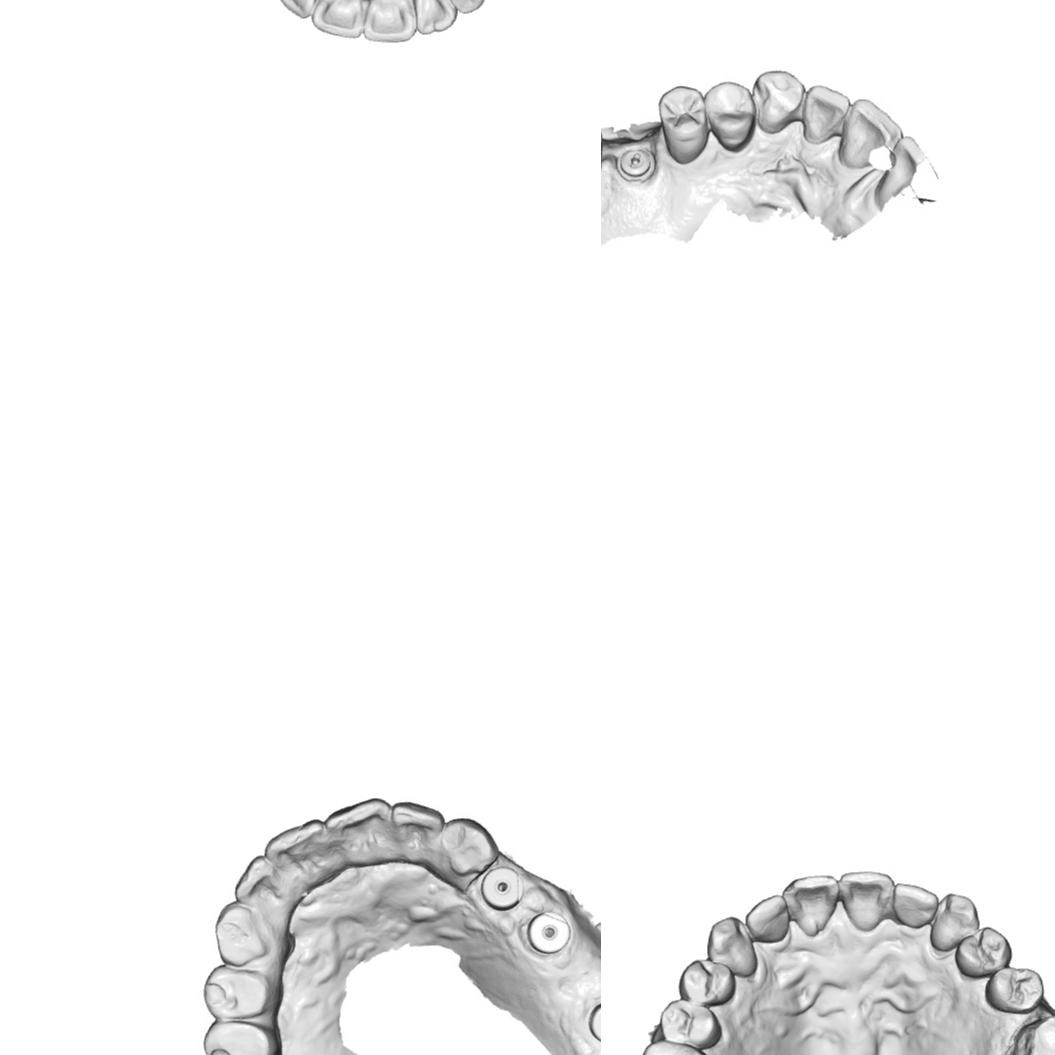canine: (749, 68, 807, 135), (438, 813, 498, 874), (210, 903, 268, 965), (928, 892, 980, 954), (706, 916, 758, 977), (441, 0, 492, 14)
crown: (998, 1012, 1055, 1055)
implant: (530, 909, 579, 956), (483, 864, 523, 911), (588, 994, 601, 1045)
implant_minus: (617, 145, 653, 181)
incisor: (835, 97, 904, 171), (327, 799, 395, 859), (782, 874, 841, 938), (838, 869, 894, 932), (799, 84, 854, 147), (267, 822, 328, 872), (231, 854, 283, 904), (387, 803, 439, 853), (744, 892, 790, 944), (363, 0, 417, 43), (893, 882, 939, 928), (310, 0, 364, 38), (412, 0, 458, 34), (277, 0, 326, 18)
premolar: (656, 82, 712, 165), (702, 78, 757, 153), (203, 966, 272, 1021), (659, 997, 723, 1050), (954, 926, 1012, 980), (983, 965, 1044, 1014), (200, 1018, 277, 1055), (678, 958, 736, 1007)
